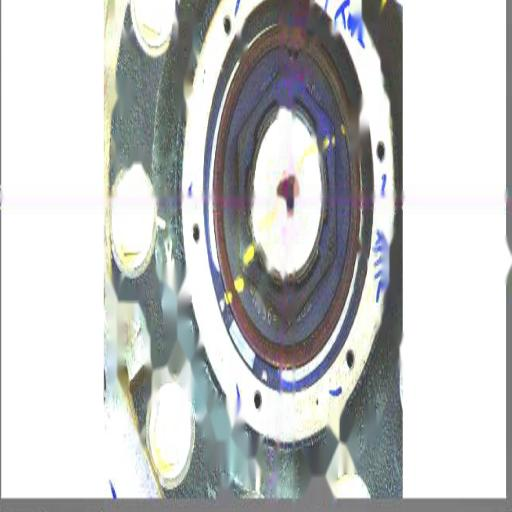center: (280, 193, 298, 220)
notch: (284, 39, 306, 69)
